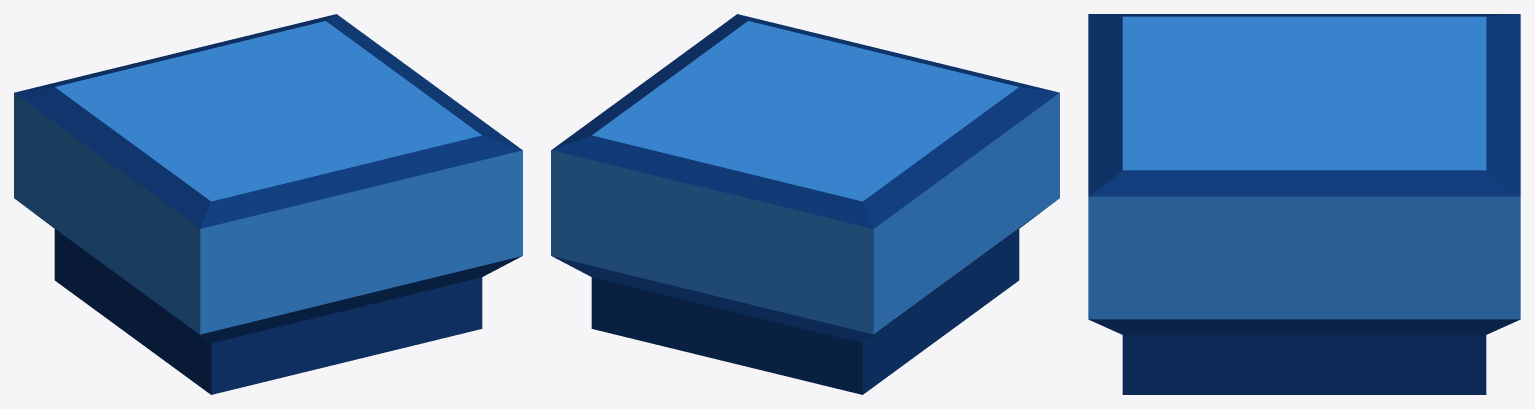
Rendered from Tiles.gltf.
3 renders of one model, left to right at view 1: azimuth 30°, elevation 25°; view 2: azimuth 150°, elevation 25°; view 3: azimuth 270°, elevation 25°, orthographic. The views are drawn at different scales.
Parts seen in each view (by area): view 1: Cube; view 2: Cube; view 3: Cube.
Boxes of the visible parts, x1,y1,x2,y2 form: Cube: (14,14,522,394); Cube: (551,14,1059,394); Cube: (1088,14,1520,394).
Bounding box in the file's own units: 2.38 × 1.36 × 2.38.
